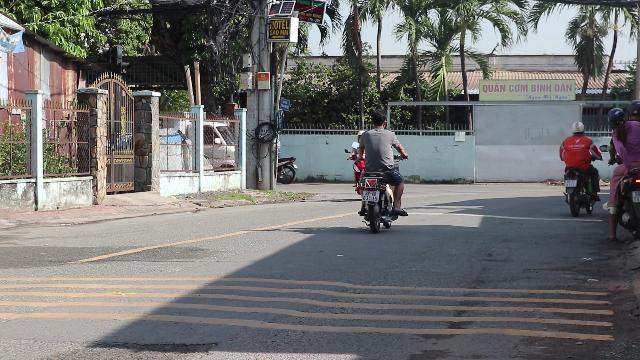helmet: (608, 106, 626, 128), (626, 99, 640, 121)
licenseplate: (363, 190, 379, 201)
motorcyclist: (350, 108, 408, 231), (604, 99, 640, 241)
nohelmet: (368, 109, 388, 128)
